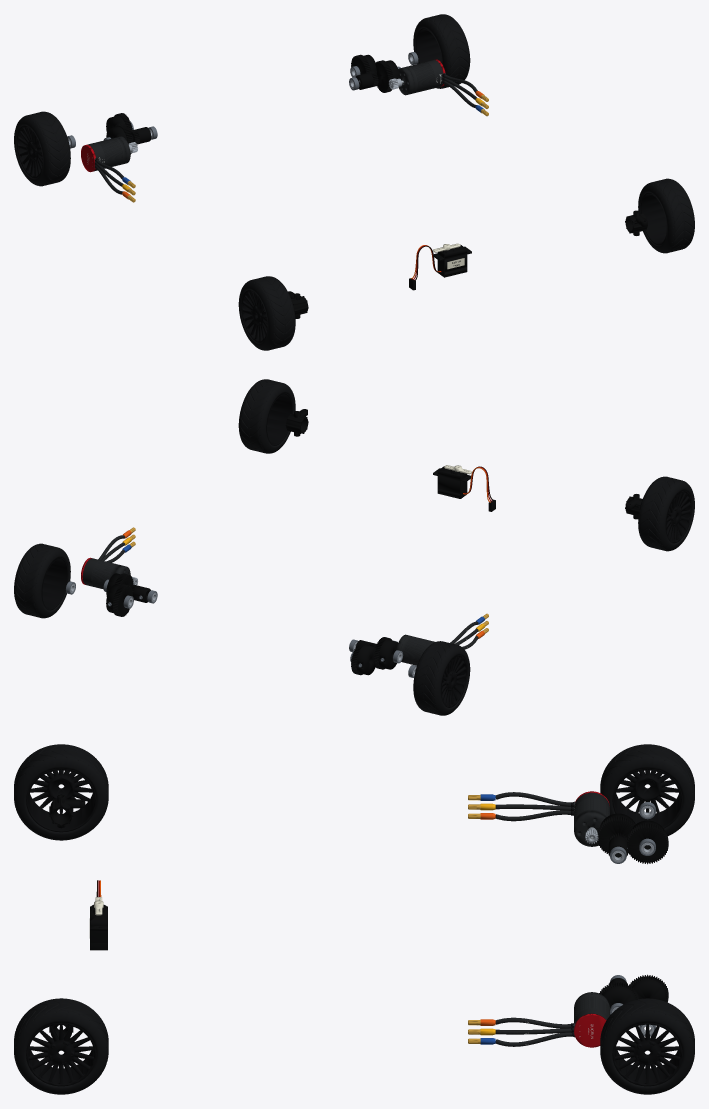
The model's file is drone-v3-roulage.glb.
3 renders of one model, top to bottom at view 1: azimuth 30°, elevation 25°; view 2: azimuth 150°, elevation 25°; view 3: azimuth 270°, elevation 25°, orthographic. The views are drawn at different scales.
Parts seen in each view (by area): view 1: Roue_AV_G (×2), Roue_AR_G (×2), Roue_AV_D (×2), Roue_AR_D (×2), Moteur_D, Moteur_G, Servo_FT90M, Couronne54_etage1_D; view 2: Roue_AR_G (×2), Roue_AV_G (×2), Roue_AR_D (×2), Roue_AV_D (×2), Moteur_D, Moteur_G, Servo_FT90M, Couronne54_etage2_G, Couronne54_etage2_D, Couronne54_etage1_G; view 3: Roue_AR_D (×2), Roue_AV_D (×2), Roue_AV_G (×2), Roue_AR_G (×2), Moteur_D (×2), Moteur_G, Couronne54_etage2_G, Couronne54_etage1_G, Couronne54_etage2_D, Servo_FT90M, Fusee_A7_G, Couronne54_etage1_D.
Part boxes in pixels (x1,y1,x2,y2): Roue_AV_G (×2): (238,276,295,350); Roue_AR_G (×2): (14,111,70,186); Roue_AV_D (×2): (638,178,694,253); Roue_AR_D (×2): (413,14,470,88); Moteur_D: (398,60,477,108); Moteur_G: (88,136,130,194); Servo_FT90M: (409,244,471,290); Couronne54_etage1_D: (375,60,400,92); Roue_AR_G (×2): (413,641,470,715); Roue_AV_G (×2): (638,476,694,551); Roue_AR_D (×2): (14,543,70,618); Roue_AV_D (×2): (238,379,295,453); Moteur_D: (83,535,130,589); Moteur_G: (396,621,478,665); Servo_FT90M: (433,466,495,511); Couronne54_etage2_G: (351,642,375,675); Couronne54_etage2_D: (106,584,132,616); Couronne54_etage1_G: (374,637,397,669); Roue_AR_D (×2): (600,998,694,1094); Roue_AV_D (×2): (14,998,108,1094); Roue_AV_G (×2): (14,744,108,840); Roue_AR_G (×2): (600,744,694,836); Moteur_D (×2): (495,992,609,1047); Moteur_G: (495,792,609,846); Couronne54_etage2_G: (627,820,668,864); Couronne54_etage1_G: (597,813,635,854); Couronne54_etage2_D: (629,974,668,1002); Servo_FT90M: (90,904,107,950); Fusee_A7_G: (49,794,85,828); Couronne54_etage1_D: (599,981,638,1014).
Bounding box in the file's own units: 0.426 × 0.063 × 0.453.
